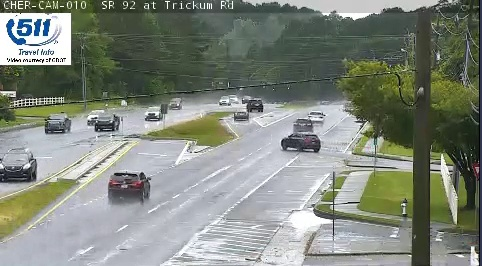car: (107, 170, 152, 201), (292, 117, 313, 132), (308, 111, 324, 124)
